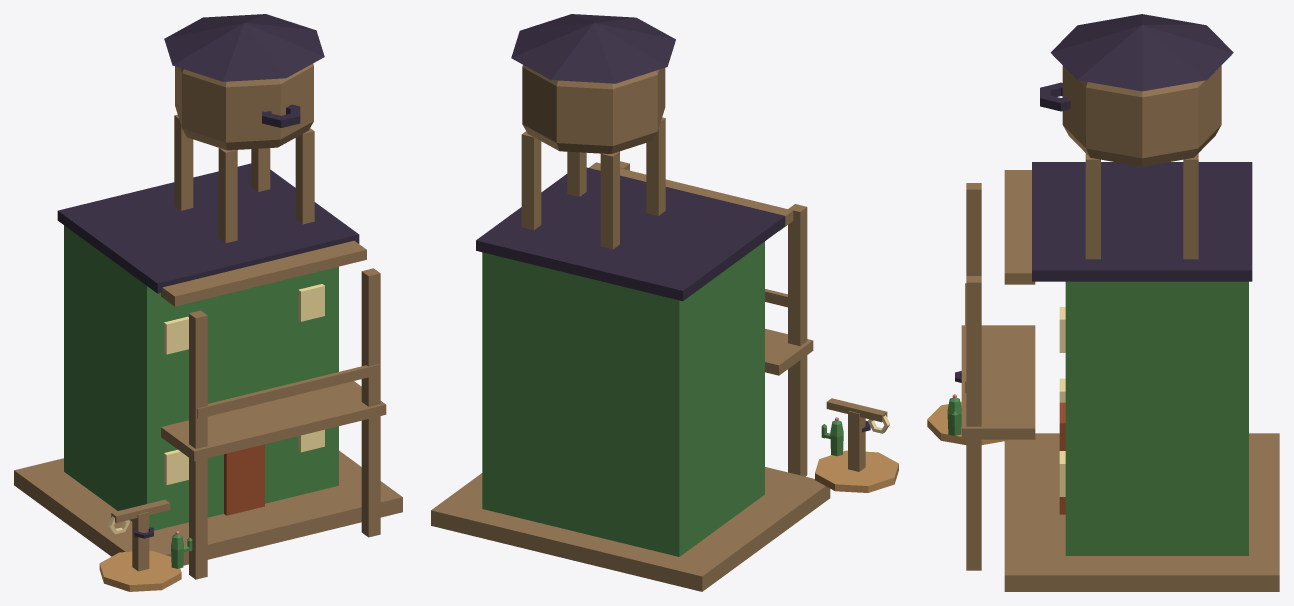
Rendered from wildwest-landmark-s3.glb.
3 views of the same model, side by side, from view 1: azimuth 30°, elevation 25°; view 2: azimuth 150°, elevation 25°; view 3: azimuth 270°, elevation 25° (orthographic). The views are drawn at different scales.
Visible parts, largest first — view 1: wildwest-landmark-s3; view 2: wildwest-landmark-s3; view 3: wildwest-landmark-s3.
Part boxes in pixels (x1,y1,x2,y2): wildwest-landmark-s3: (14, 14, 402, 591); wildwest-landmark-s3: (431, 14, 898, 591); wildwest-landmark-s3: (927, 14, 1279, 591).
Bounding box in the file's own units: 1.3 × 1.86 × 1.15.
